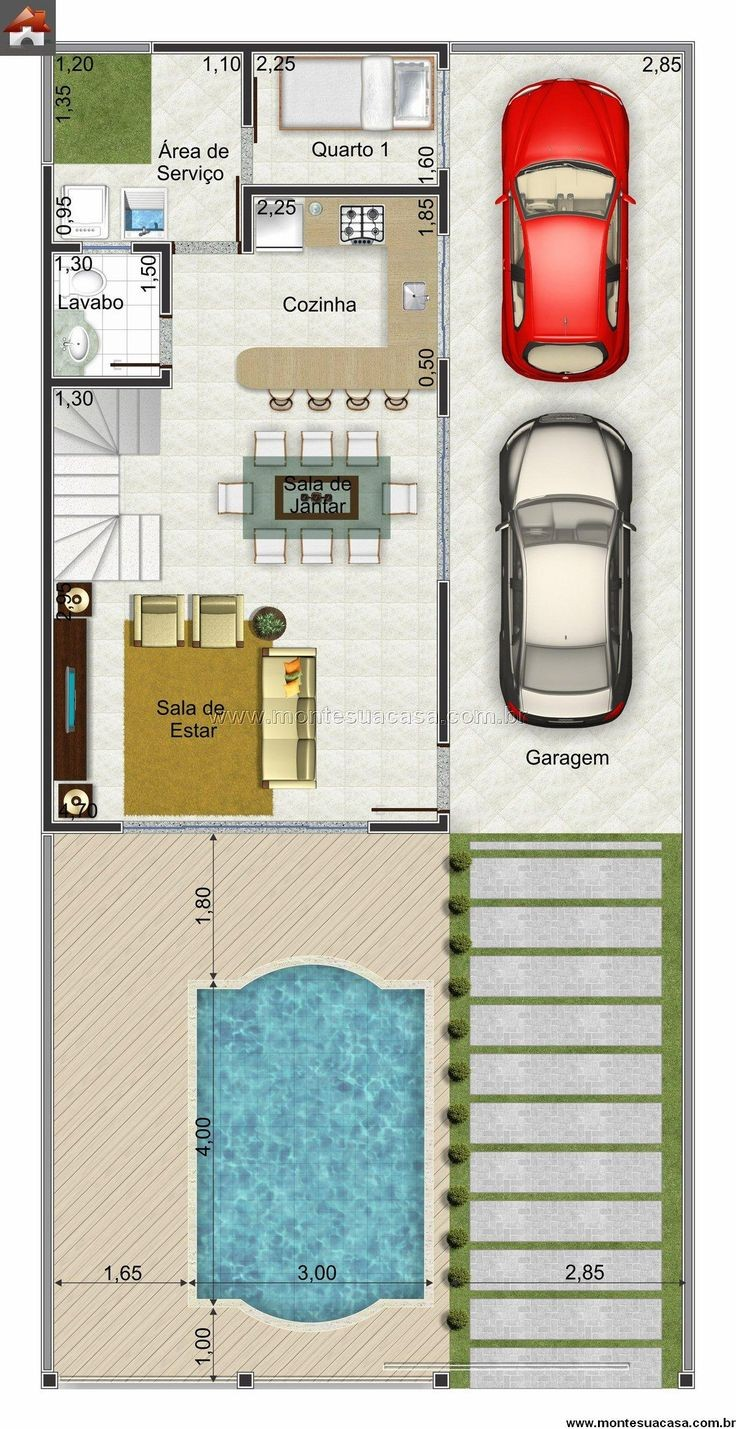room: (241, 43, 448, 195), (41, 241, 172, 389)
